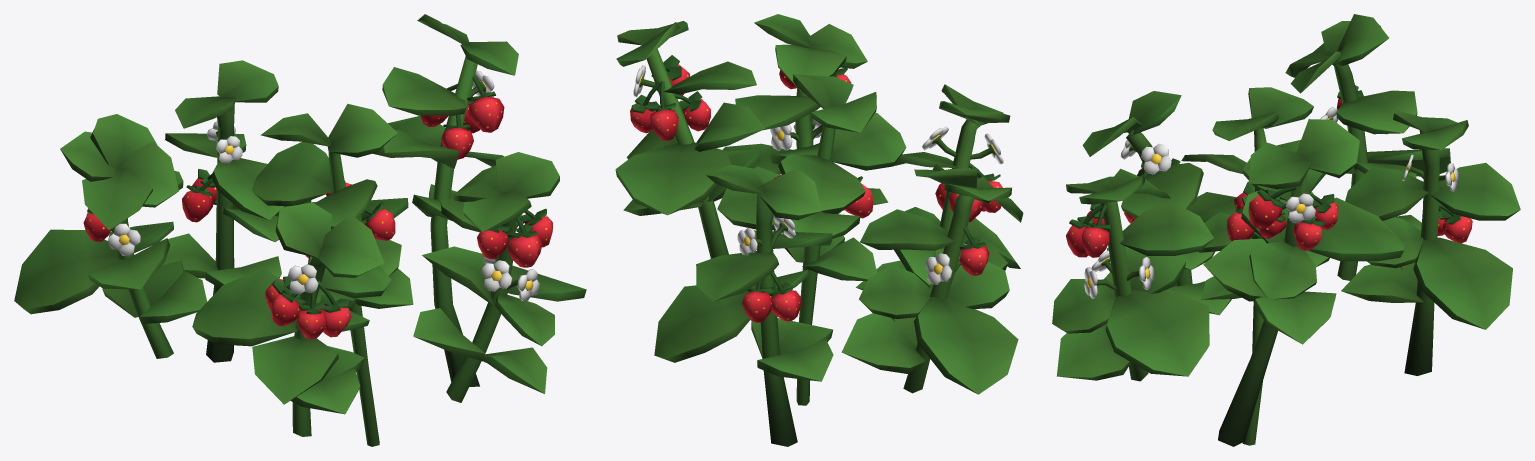
File: SM_Plant_Strawberry_Lv3.fbx
The picture shows the model from 3 angles, left to right: view 1: azimuth 30°, elevation 25°; view 2: azimuth 150°, elevation 25°; view 3: azimuth 270°, elevation 25°; orthographic projection. The views are drawn at different scales.
Visible parts, largest first — view 1: SM_Plant_Strawberry_Lv3; view 2: SM_Plant_Strawberry_Lv3; view 3: SM_Plant_Strawberry_Lv3.
Part boxes in pixels (x1,y1,x2,y2): SM_Plant_Strawberry_Lv3: (14, 14, 586, 446); SM_Plant_Strawberry_Lv3: (615, 14, 1023, 446); SM_Plant_Strawberry_Lv3: (1052, 14, 1520, 446).
Size of the model in its own units: 66.37 by 55.11 by 63.15.
